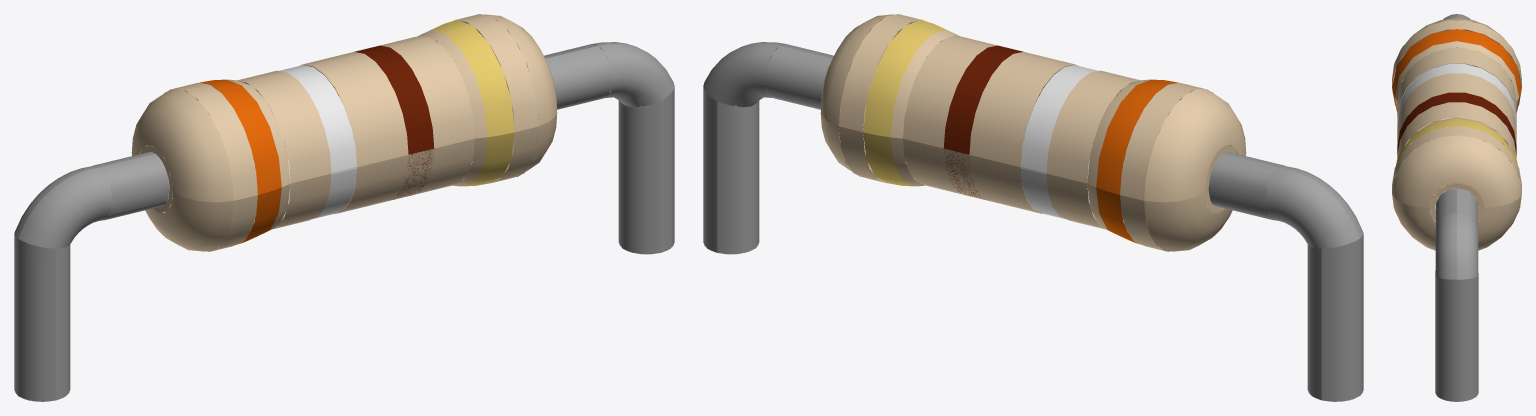
File: 橙白棕R7.fbx
The picture shows the model from 3 angles, left to right: view 1: azimuth 30°, elevation 25°; view 2: azimuth 150°, elevation 25°; view 3: azimuth 270°, elevation 25°; orthographic projection. The views are drawn at different scales.
Parts seen in each view (by area): view 1: nurbsToPoly261; view 2: nurbsToPoly261; view 3: nurbsToPoly261.
Boxes of the visible parts, x1,y1,x2,y2 form: nurbsToPoly261: (14,14,674,401); nurbsToPoly261: (703,14,1363,401); nurbsToPoly261: (1392,14,1521,401).
Bounding box in the file's own units: 3.19 × 1.21 × 0.7087.
